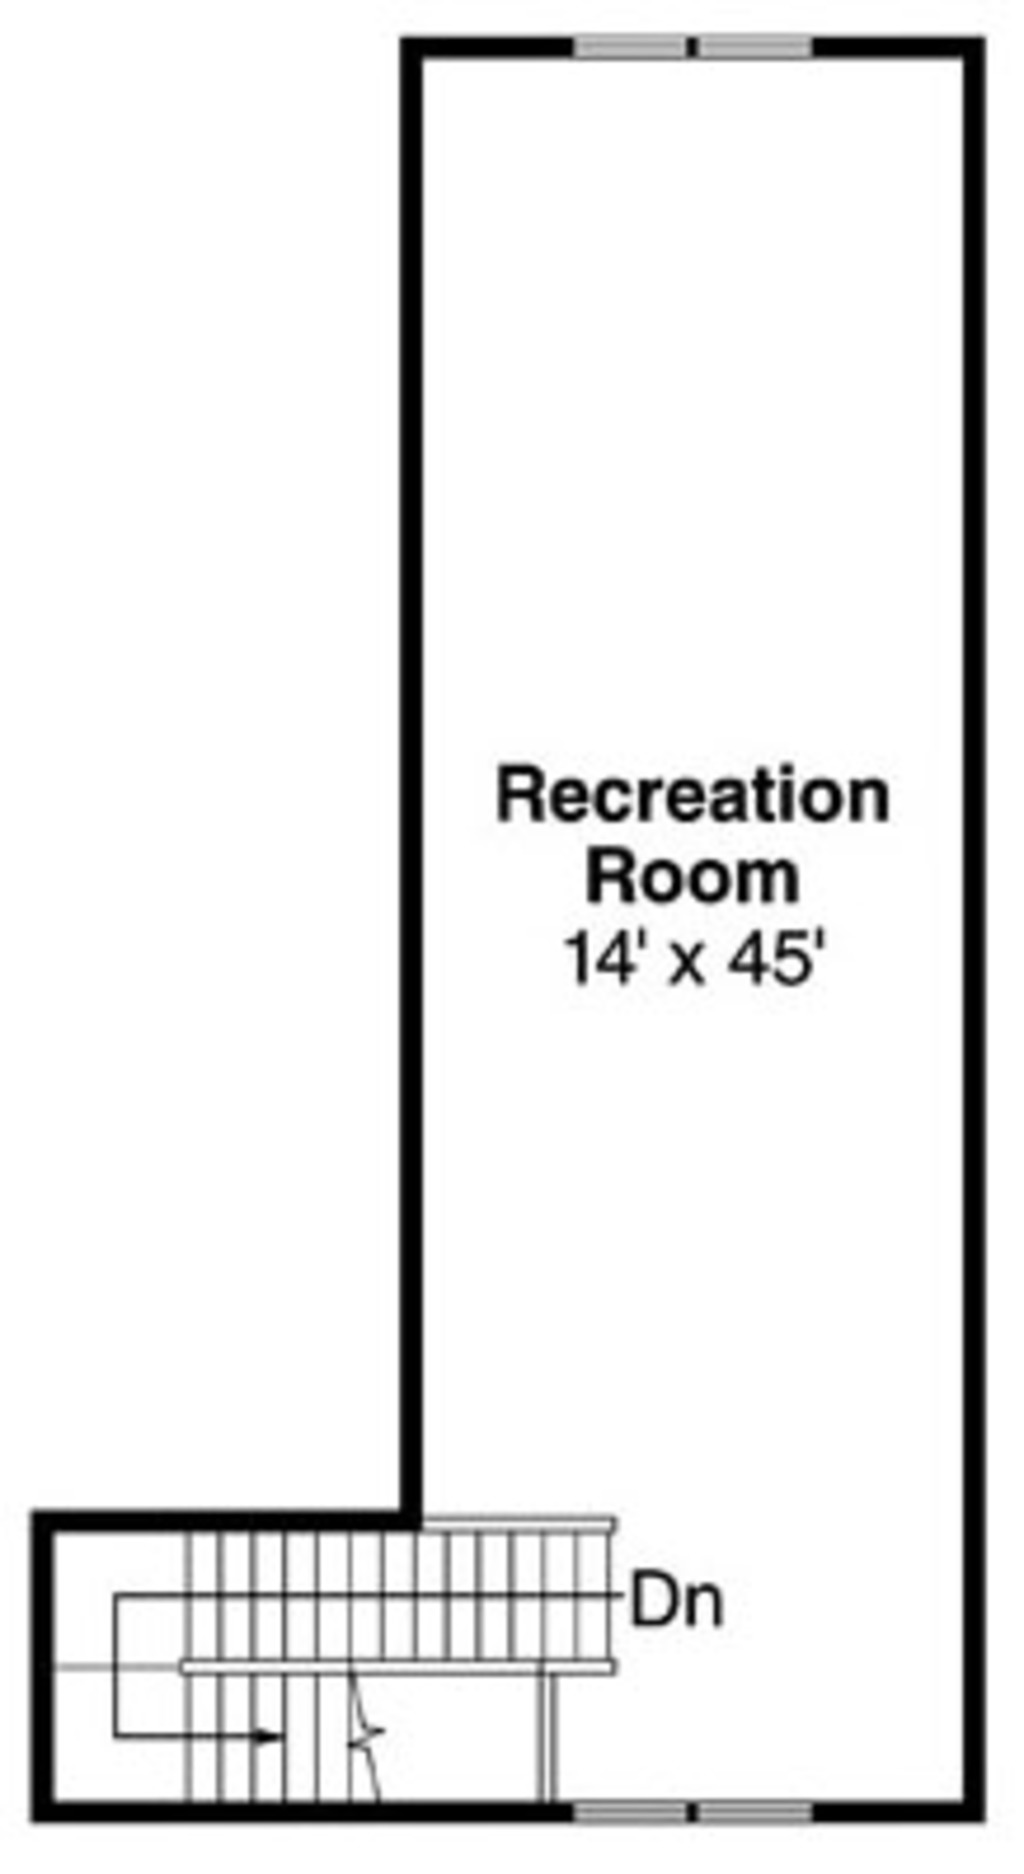stairs: (34, 1515, 628, 1795)
window: (702, 29, 818, 79), (575, 26, 694, 71), (707, 1791, 818, 1835), (575, 1797, 675, 1817)
